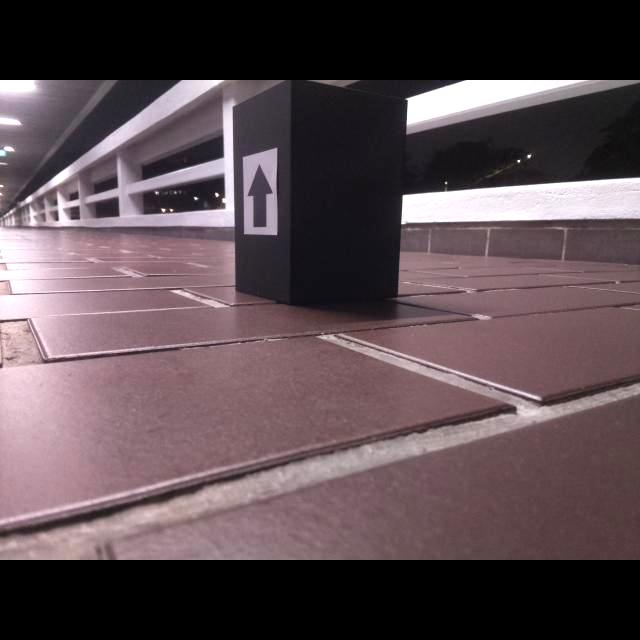UP: (246, 163, 274, 228)
